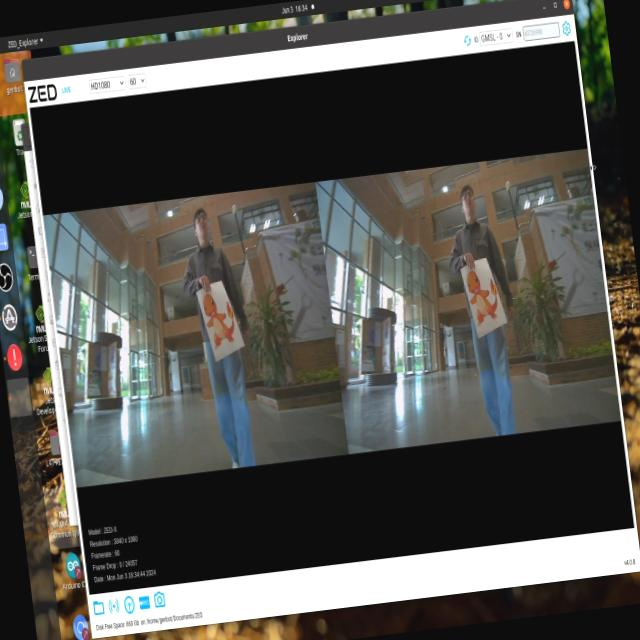red: (194, 283, 242, 350), (464, 259, 506, 331)
